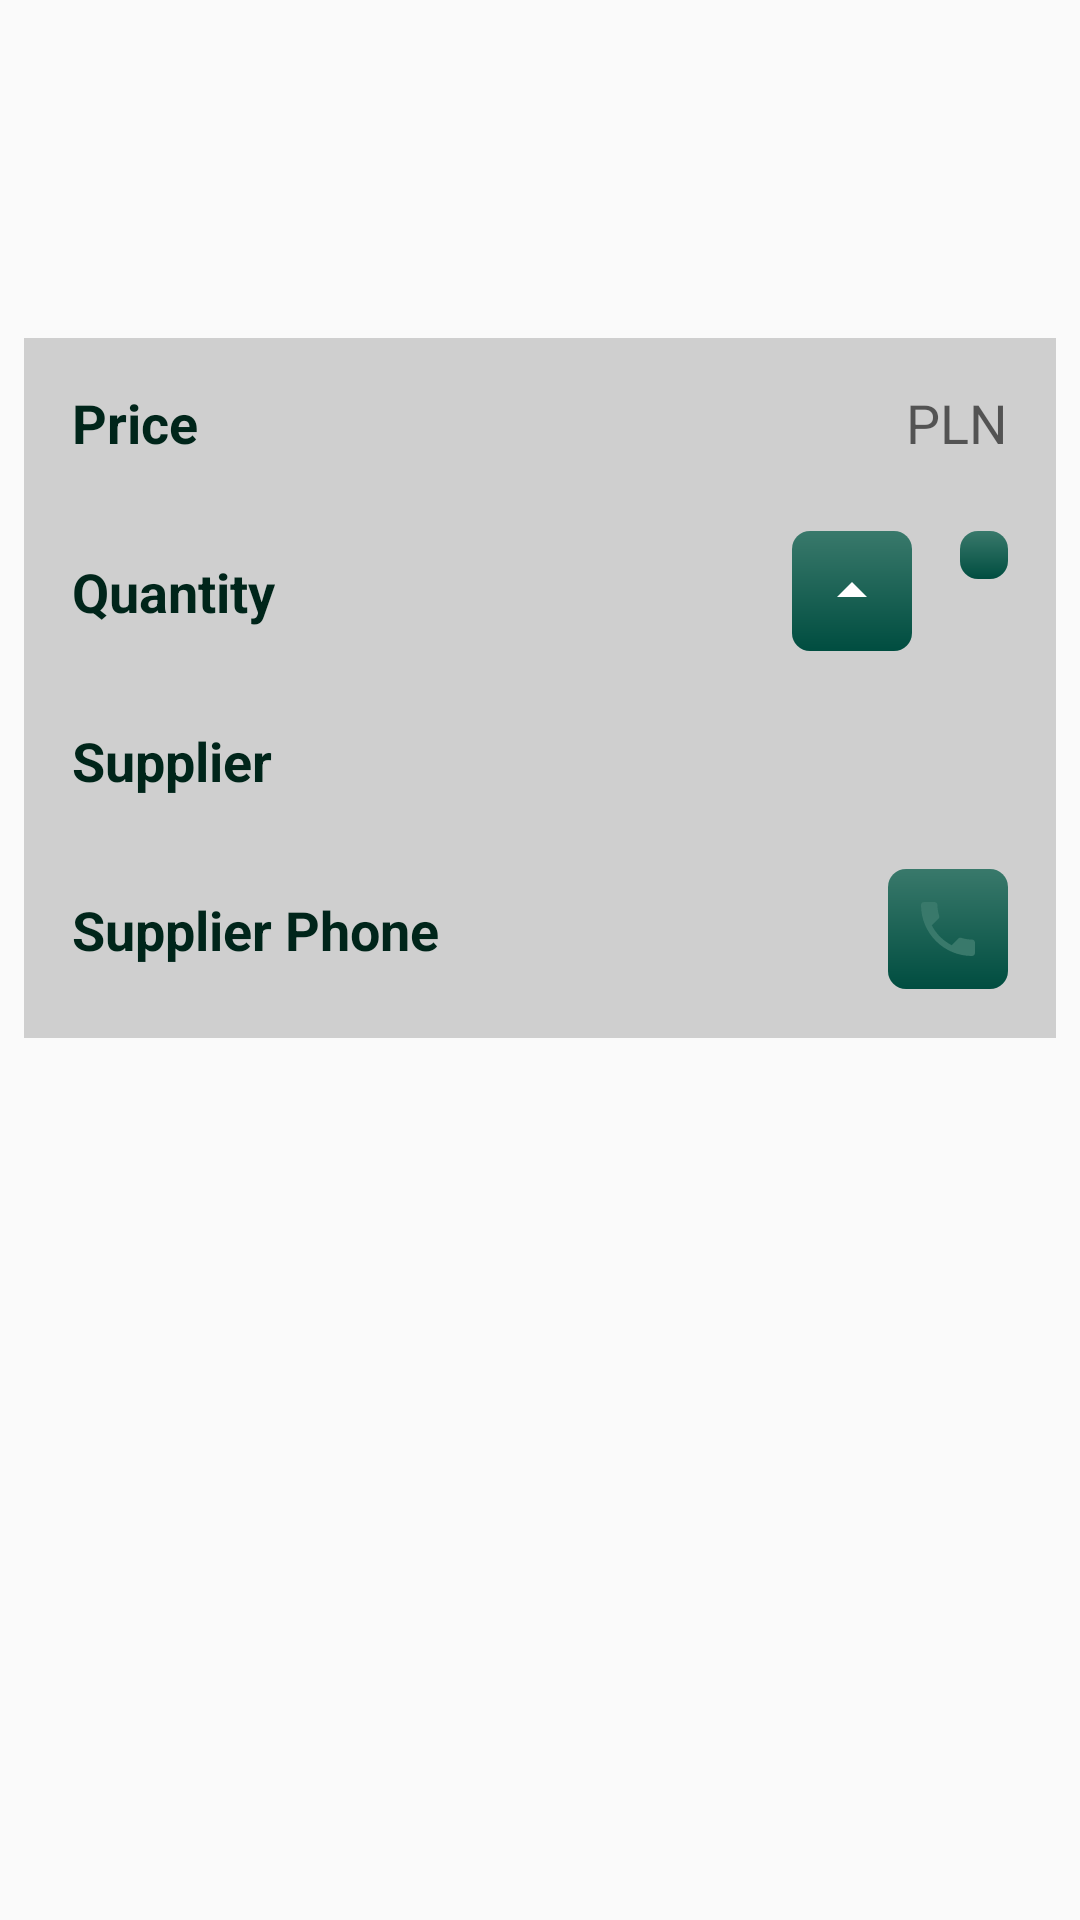

Icon click points for this 1080px×1920px phone screenshot, format (x,y):
arrow drop up: (852,591)
call: (948,929)
